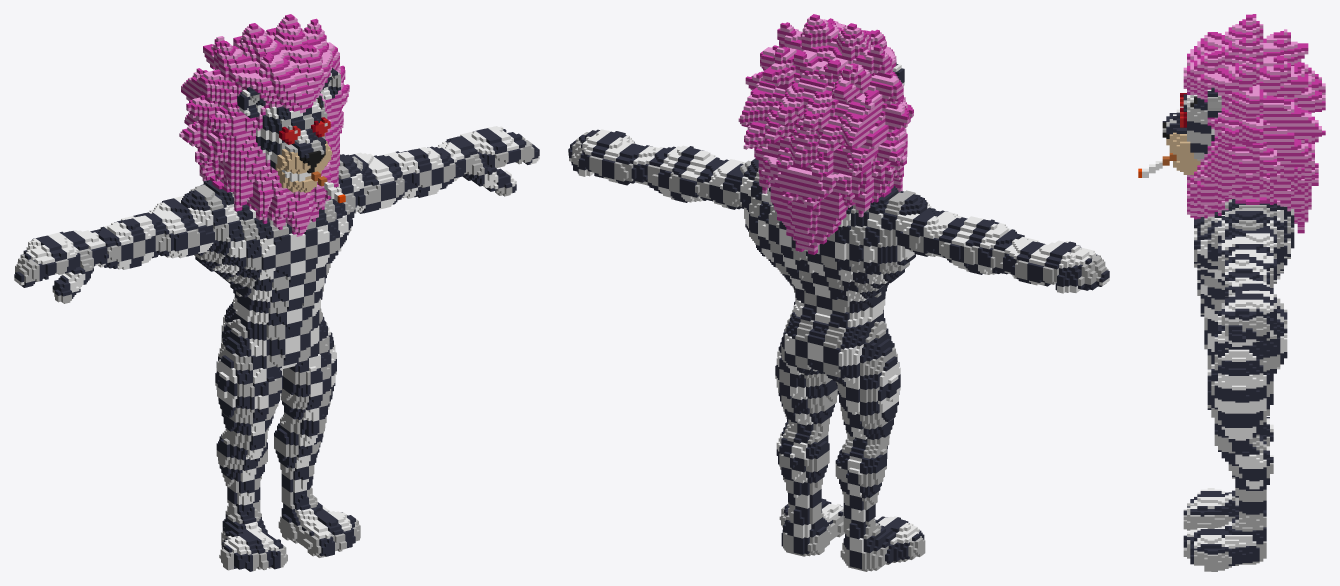
Rendered from 55-CxatEJci.glb.
3 renders of one model, left to right at view 1: azimuth 30°, elevation 25°; view 2: azimuth 150°, elevation 25°; view 3: azimuth 270°, elevation 25°, orthographic. The views are drawn at different scales.
Parts seen in each view (by area): view 1: cigarette; view 2: cigarette; view 3: cigarette.
Part boxes in pixels (x1=…): cigarette: x1=14, y1=14, x2=539, y2=571; cigarette: x1=568, y1=14, x2=1109, y2=571; cigarette: x1=1138, y1=14, x2=1325, y2=571.
Bounding box in the file's own units: 17.2 × 16.5 × 5.4.
Materials: 4 (4 with a texture image).
